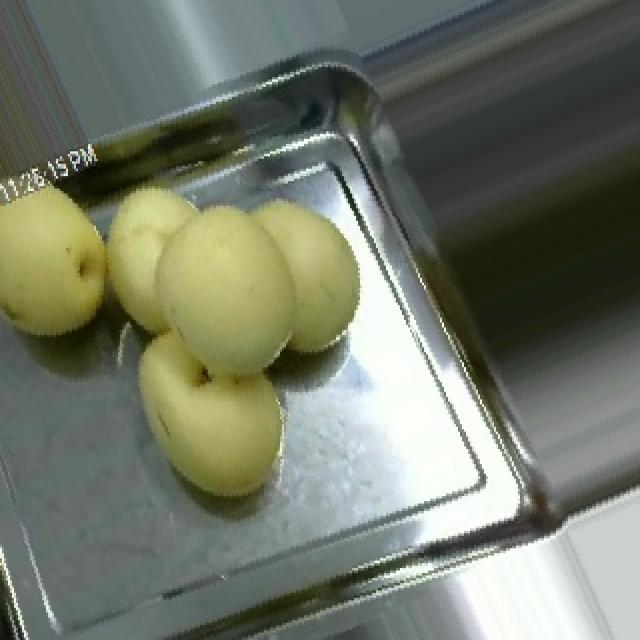Fruit: (84, 161, 396, 422), (102, 298, 320, 526), (0, 161, 132, 365)
